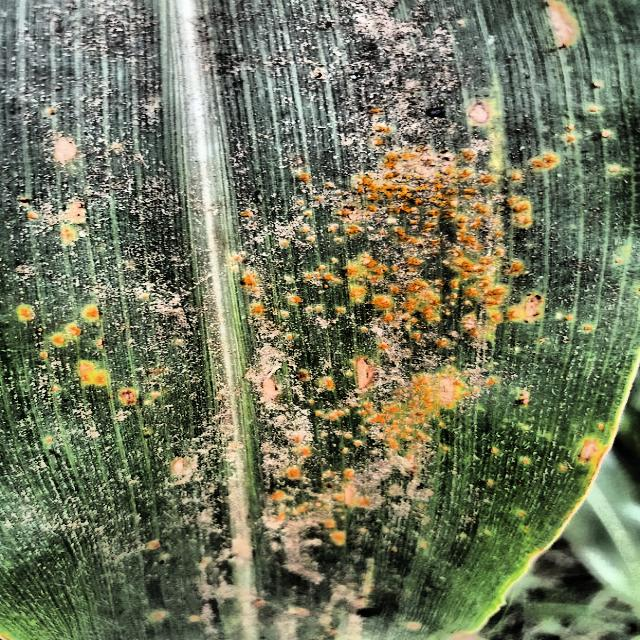common_rust: (2, 0, 629, 640)
